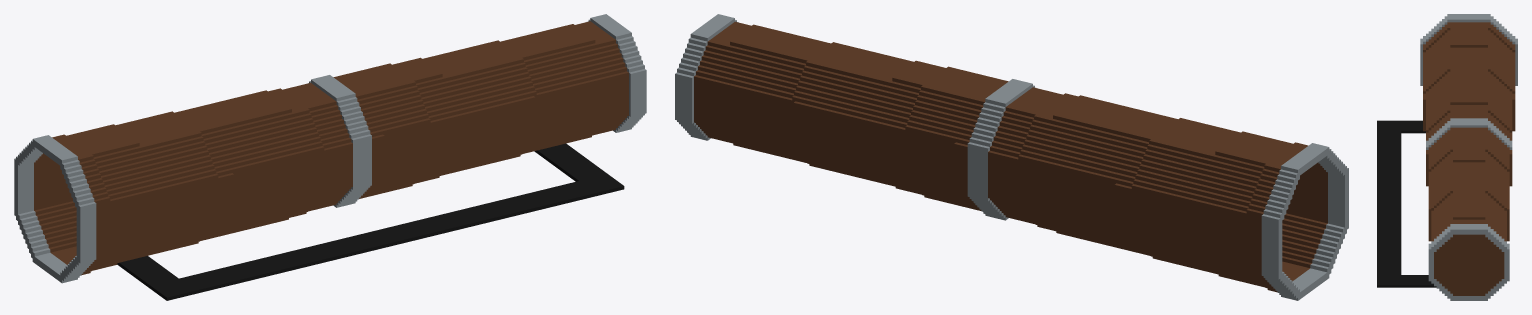
File: quiver_large.glb
The picture shows the model from 3 angles, left to right: view 1: azimuth 30°, elevation 25°; view 2: azimuth 150°, elevation 25°; view 3: azimuth 270°, elevation 25°; orthographic projection. The views are drawn at different scales.
Parts seen in each view (by area): view 1: quiver_large:compound; view 2: quiver_large:compound; view 3: quiver_large:compound.
Boxes of the visible parts, box(x1,y1,x2,y2) form: quiver_large:compound: box(14, 14, 646, 300); quiver_large:compound: box(675, 14, 1348, 300); quiver_large:compound: box(1377, 14, 1517, 300).
Size of the model in its own units: 0.72 by 0.148 by 0.208.
